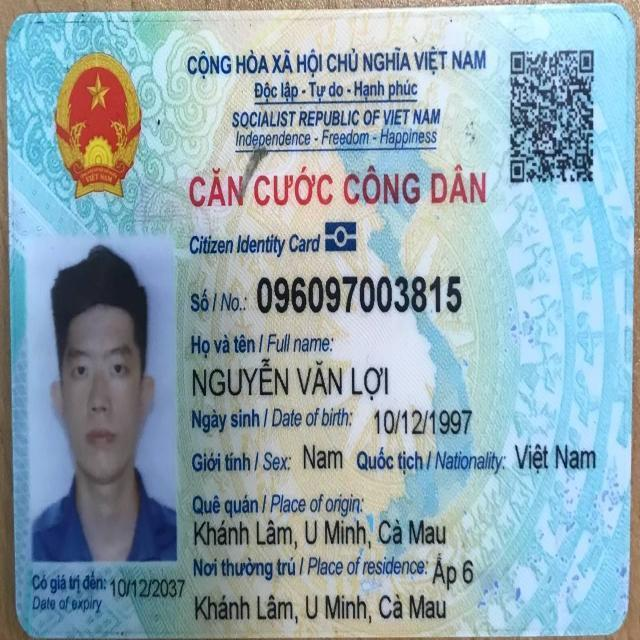current_place: (194, 582, 452, 628), (430, 554, 477, 589)
dob: (371, 406, 475, 446)
expire_date: (109, 570, 186, 606)
gender: (299, 440, 349, 475)
id: (254, 262, 468, 328)
name: (188, 359, 393, 403)
nationality: (513, 439, 599, 479)
origin_place: (190, 486, 448, 554)
